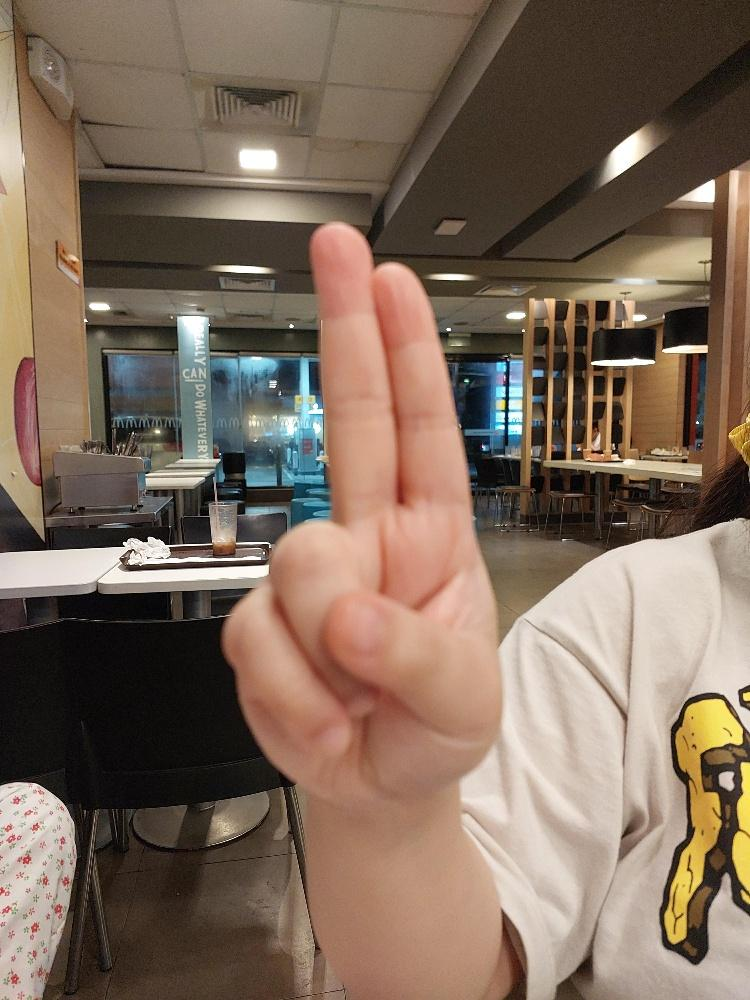u: (218, 218, 506, 801)
